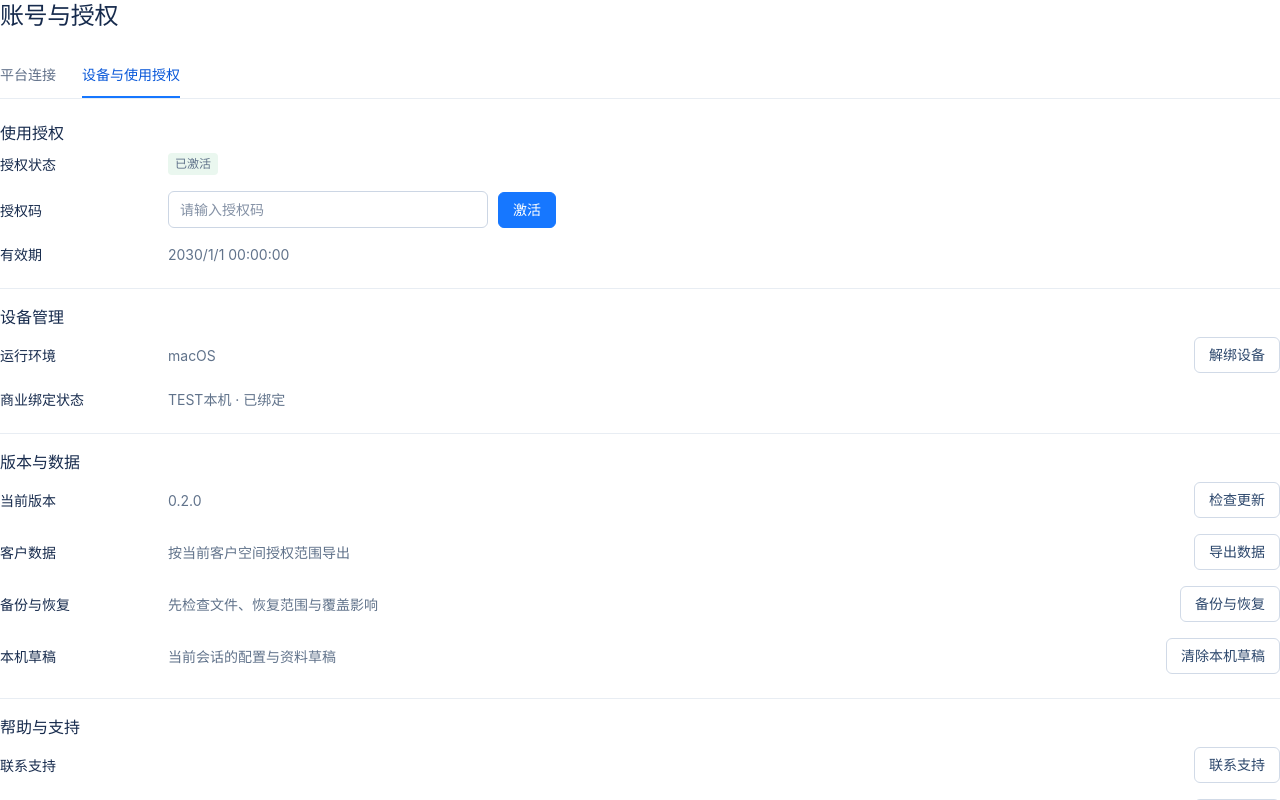
P18 available management contracts › rejects stale or mismatched impact previews
Click the button "解绑设备": click(1237, 355) [1194,337,1279,373]
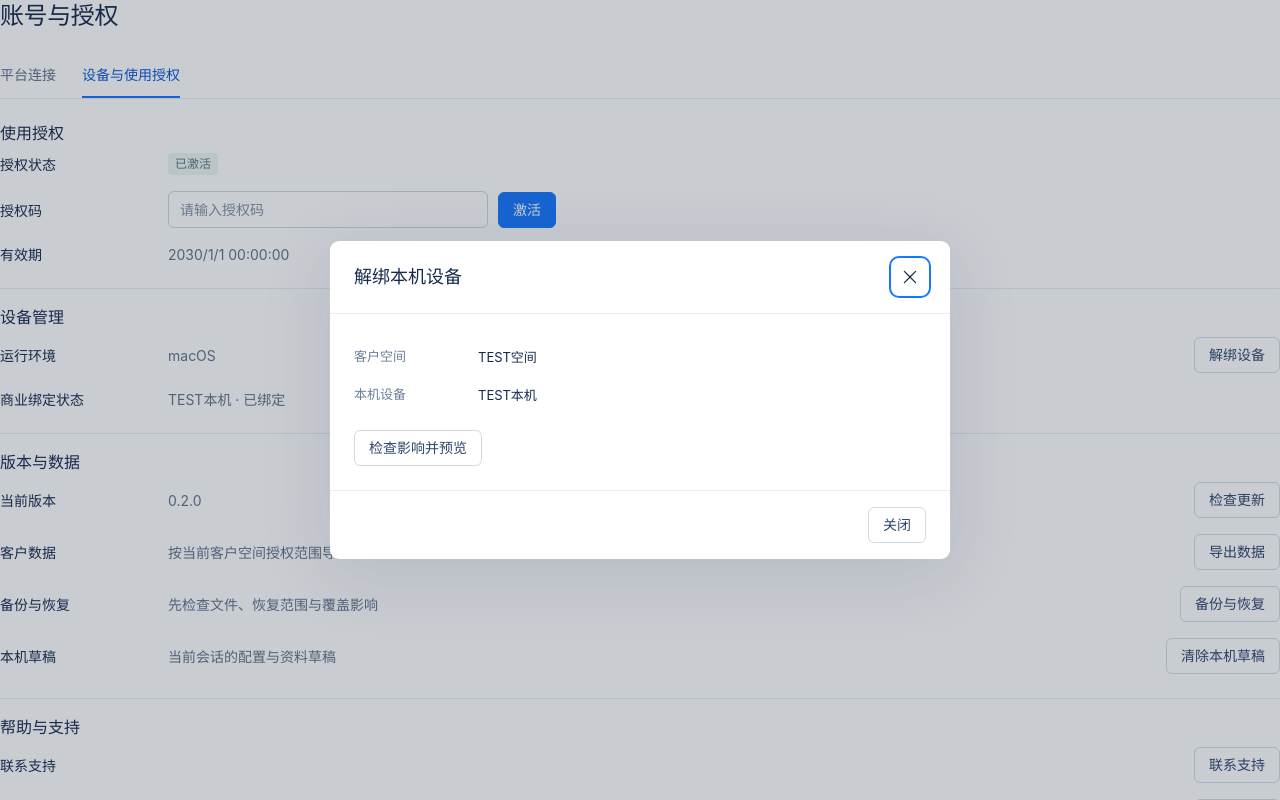
Click the button "检查影响并预览": click(418, 448) [354,430,482,466]
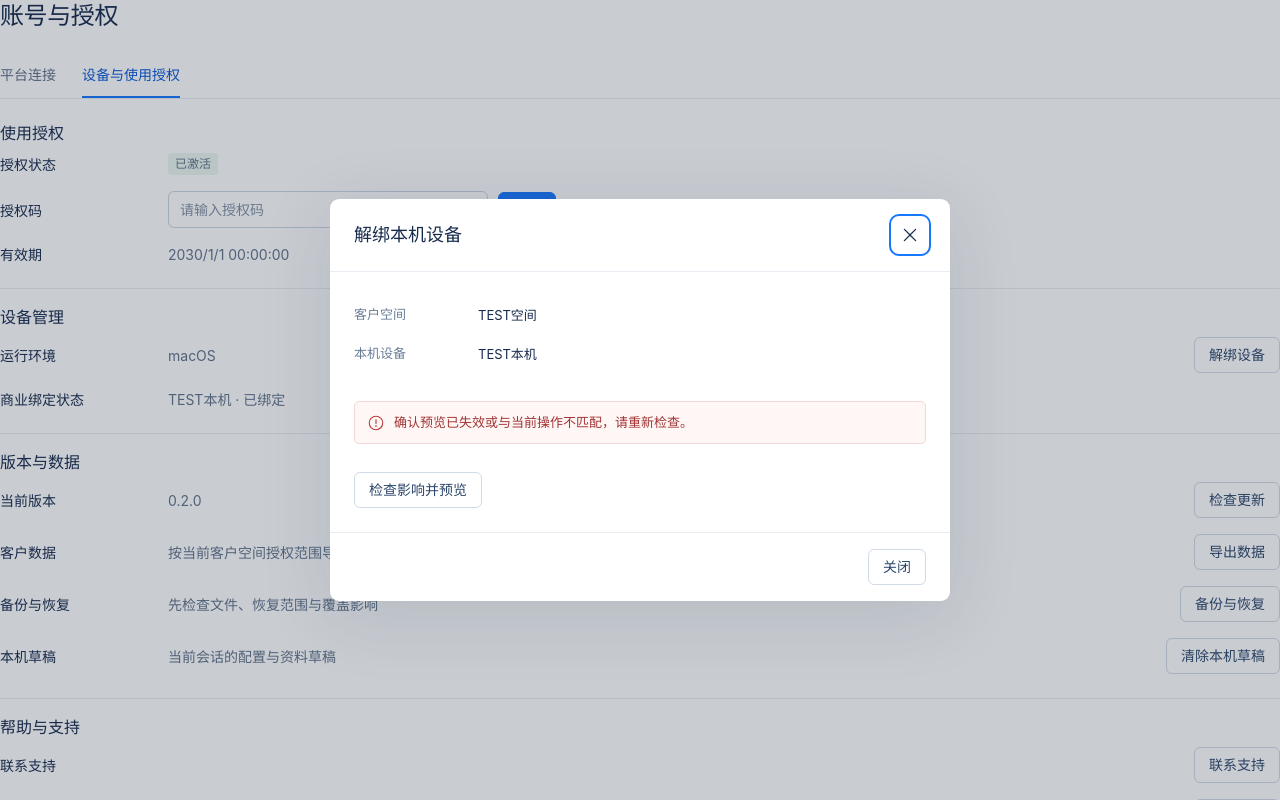
Result: the text "确认预览已失效或与当前操作不匹配，请重新检查。" is shown at [394,414,693,430]
